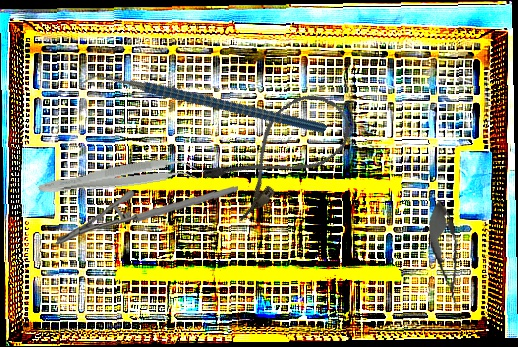Cannula: (198, 79, 362, 226)
Chopper: (77, 2, 328, 211)
Micro Scissor: (422, 197, 471, 313)
Needle Holder: (56, 176, 238, 256)
Tissue Forceps: (36, 153, 200, 205)
